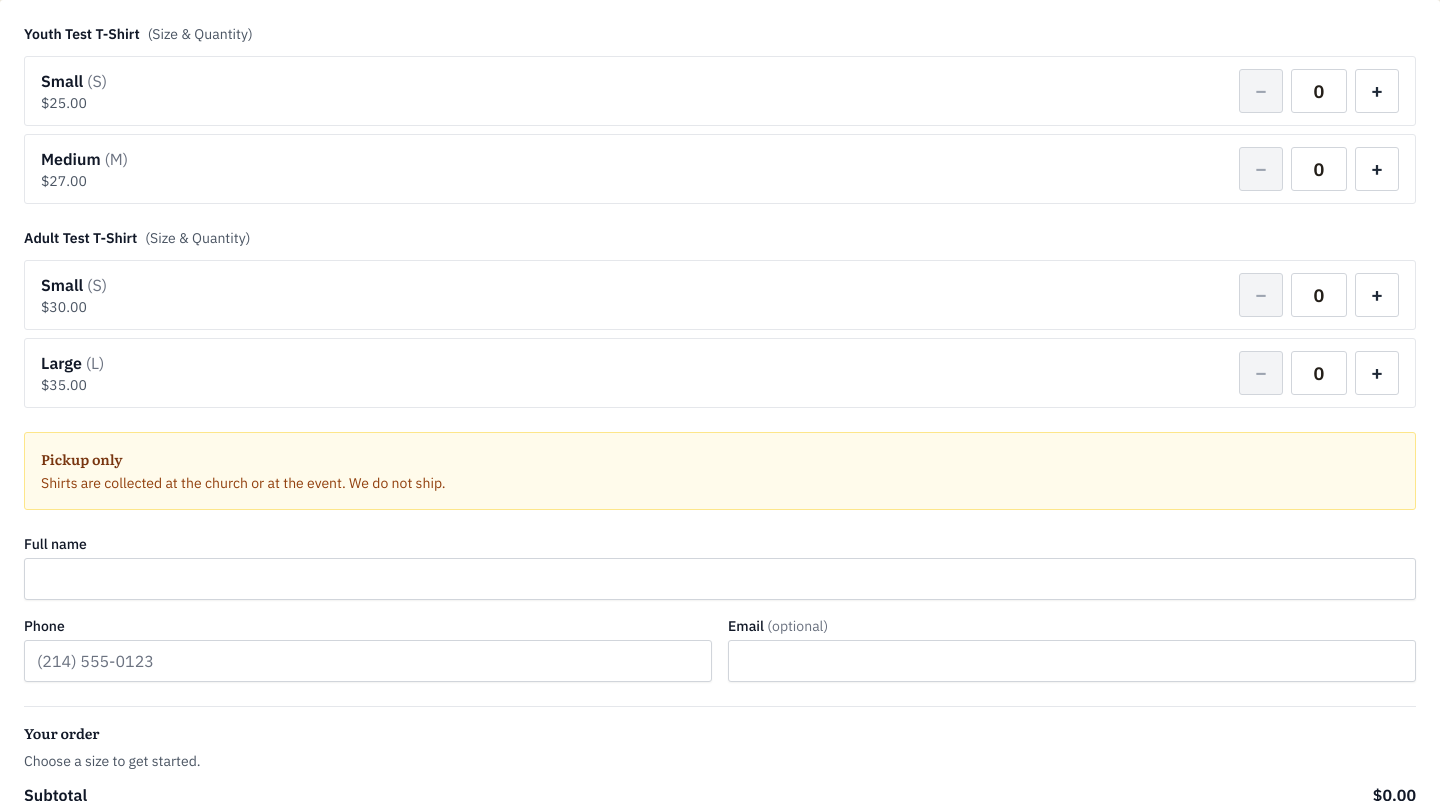
Test: ShirtOrderForm — checkout › refuses to submit with no sizes chosen
Step 1. Type "Test Purchaser" into the field labelled "Full name" → coordinates (720, 579), box [24,558,1416,600]
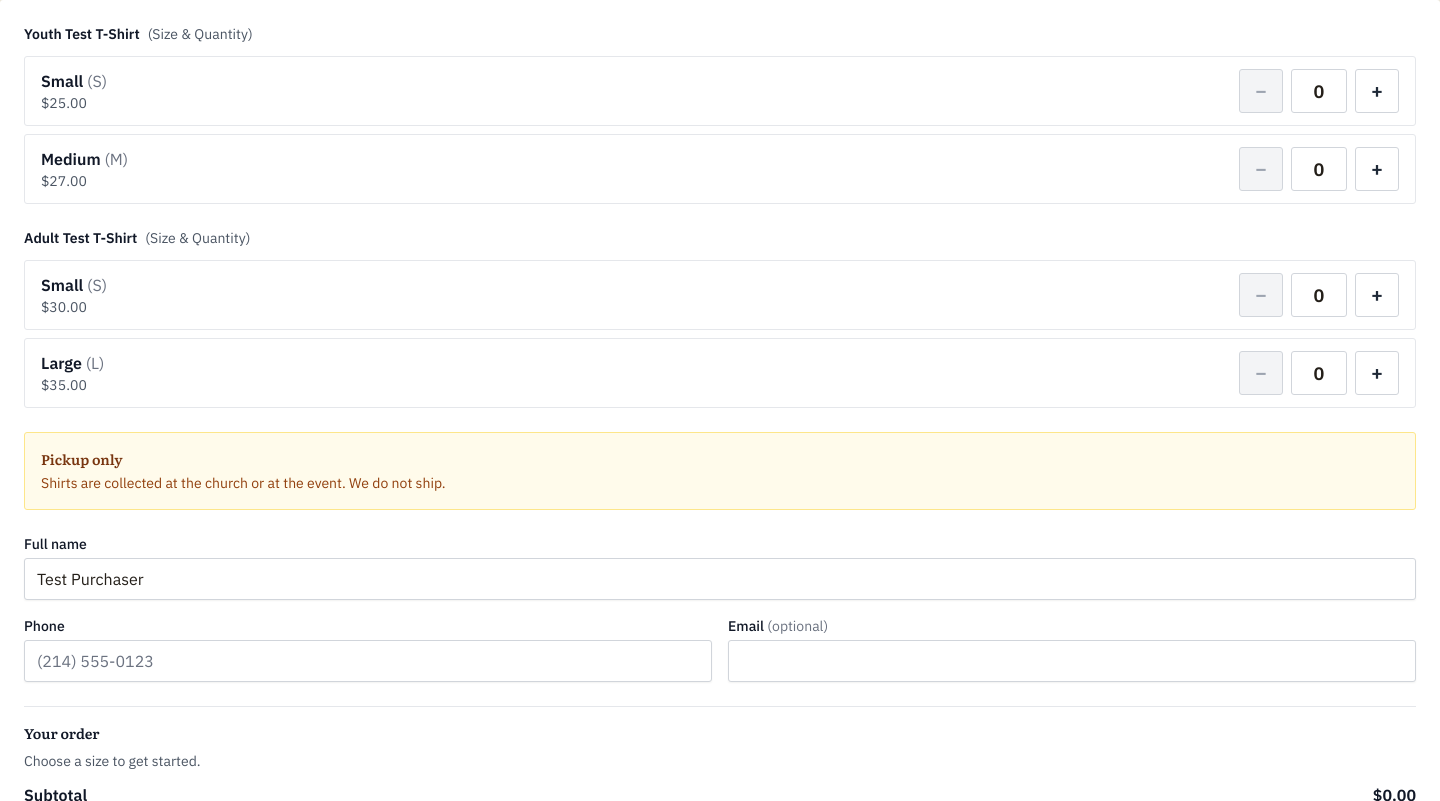
Step 2. Type "+12145550000" into the field labelled "Phone" → coordinates (368, 661), box [24,640,712,682]
(page scrolled)
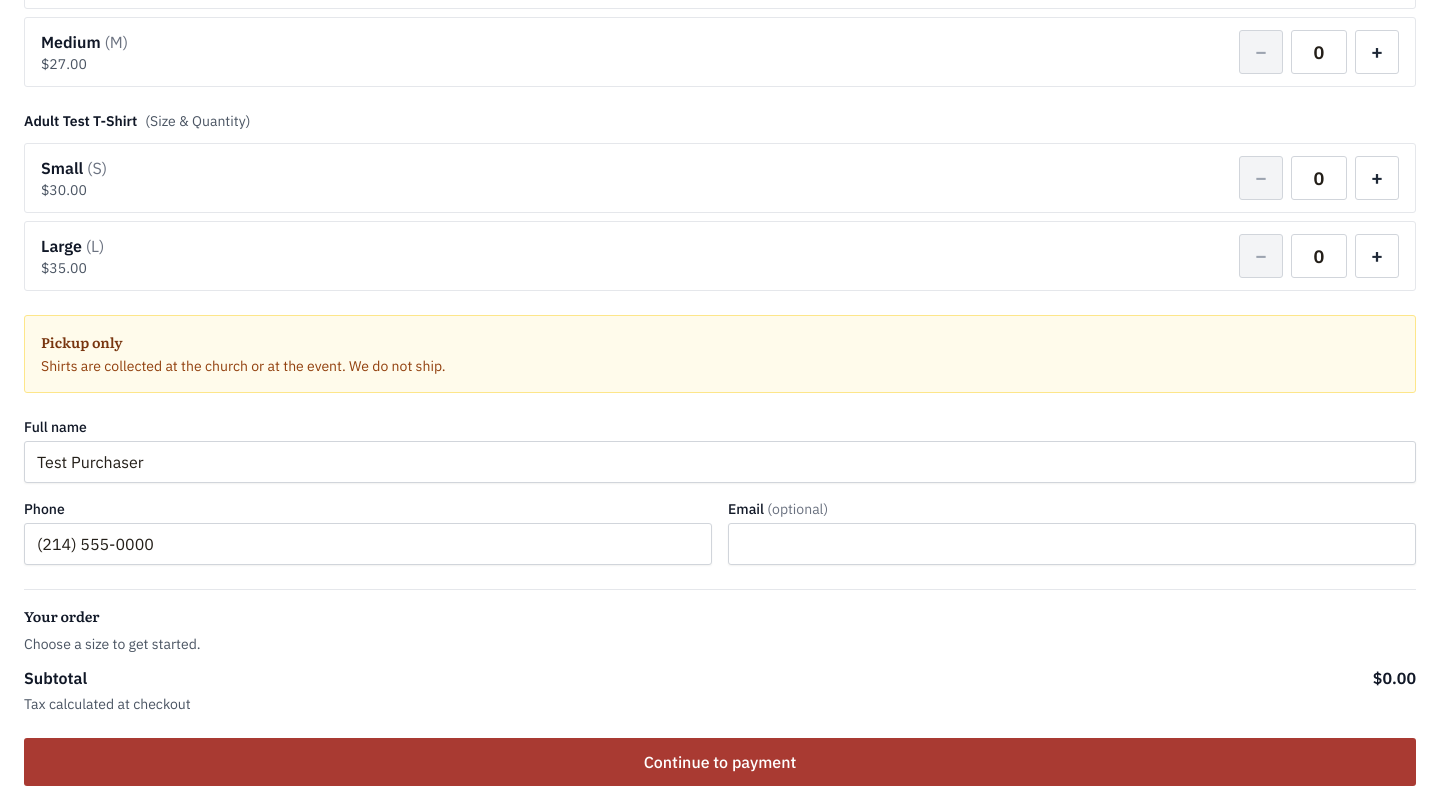
Step 3. Click the button "Continue to payment" → coordinates (720, 762), box [24,738,1416,786]
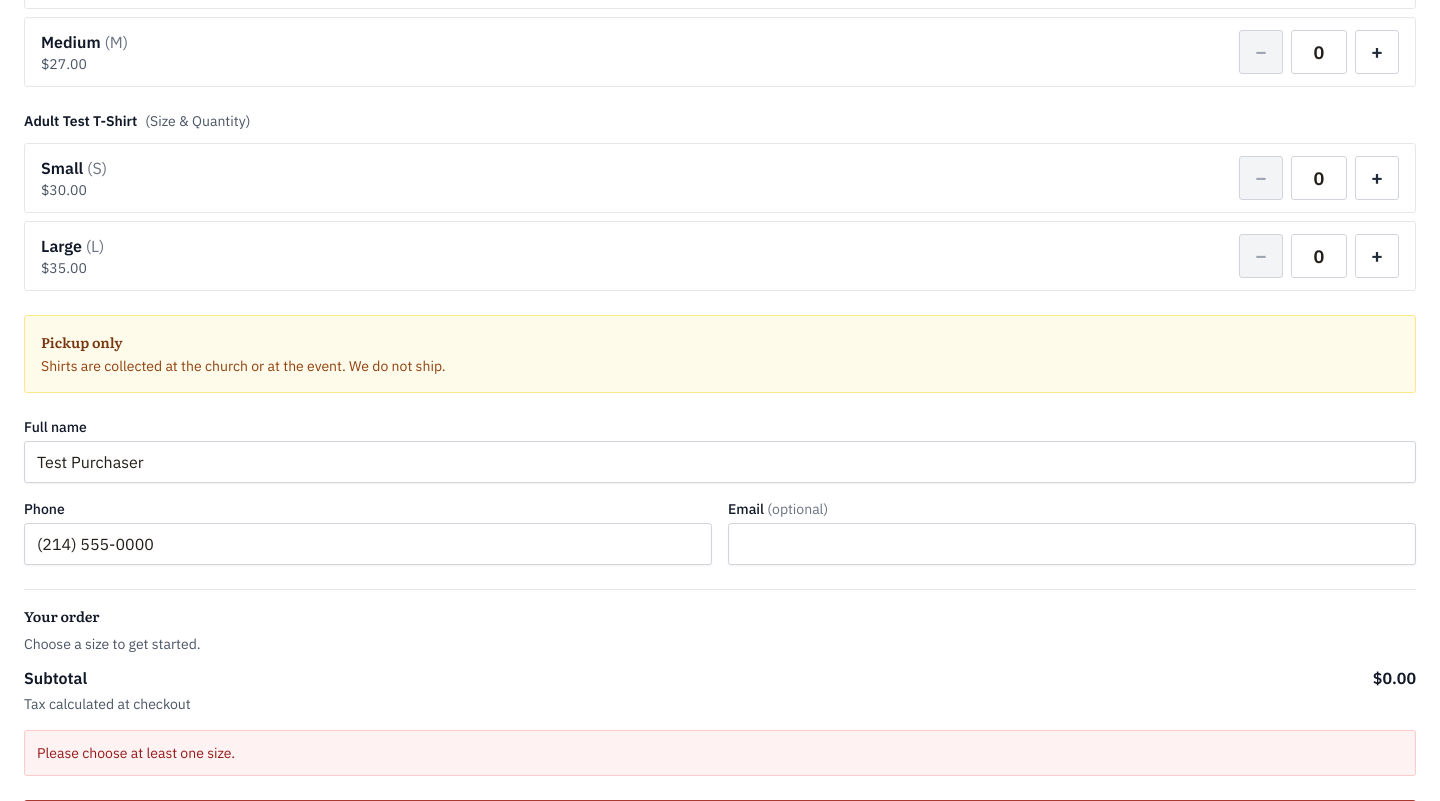
Now the text "Please choose at least one size." is shown, box [37,744,235,762]
